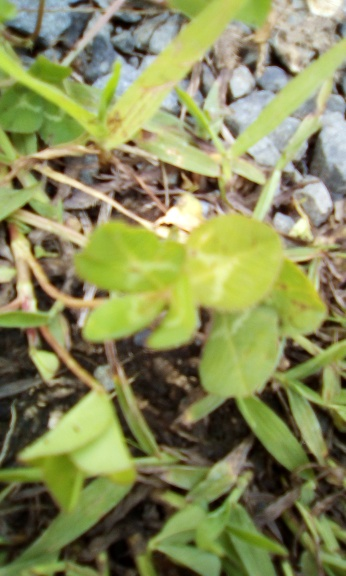4leaf: (72, 214, 283, 351)
